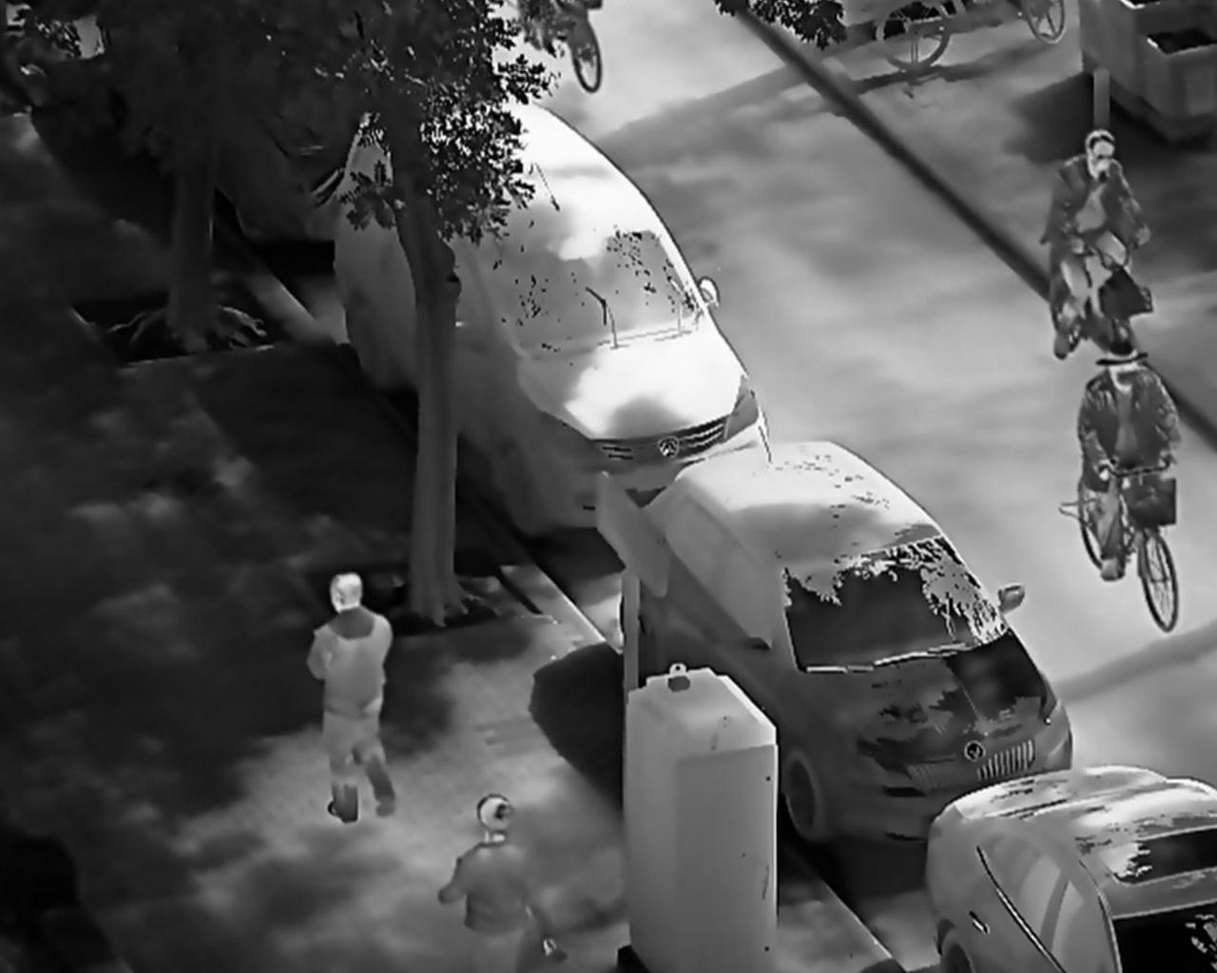person: (1074, 334, 1187, 584), (1041, 125, 1160, 360), (305, 566, 405, 825), (434, 791, 571, 973)
